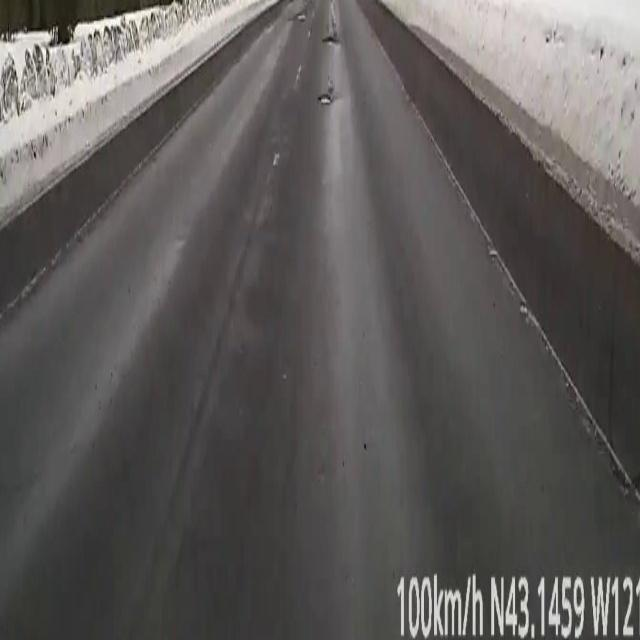pothole: (318, 85, 334, 104)
